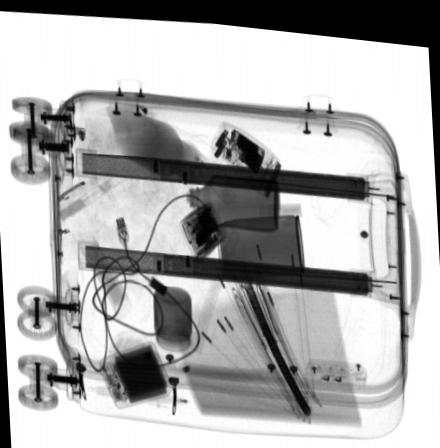Powerbank: (99, 337, 172, 407)
